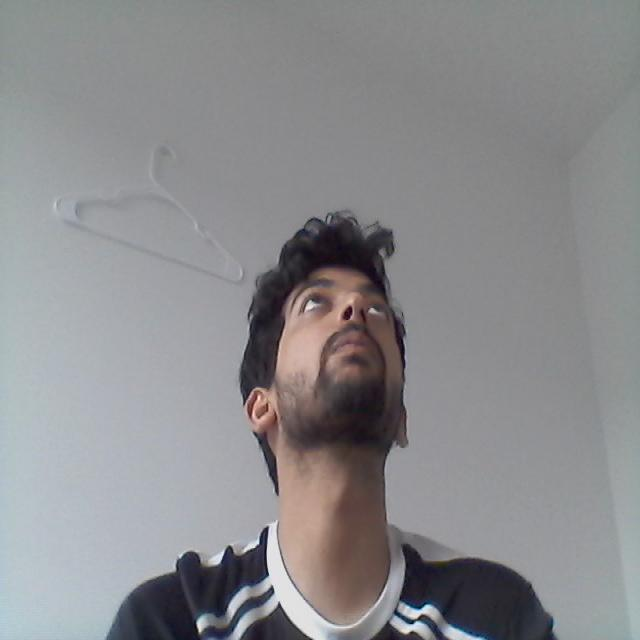nocap: (213, 184, 446, 428)
